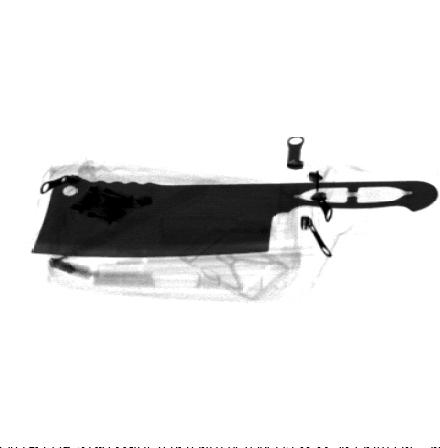Knife: (27, 174, 438, 259)
